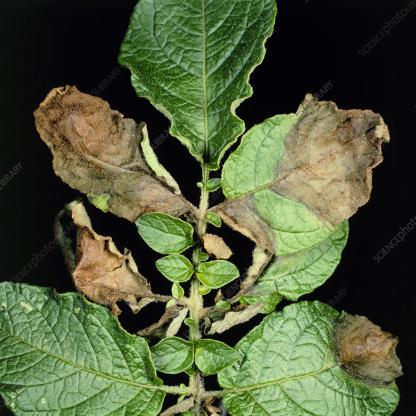potato leaf late blight: (218, 98, 393, 240), (29, 84, 197, 224), (225, 298, 405, 415), (48, 196, 158, 315)
